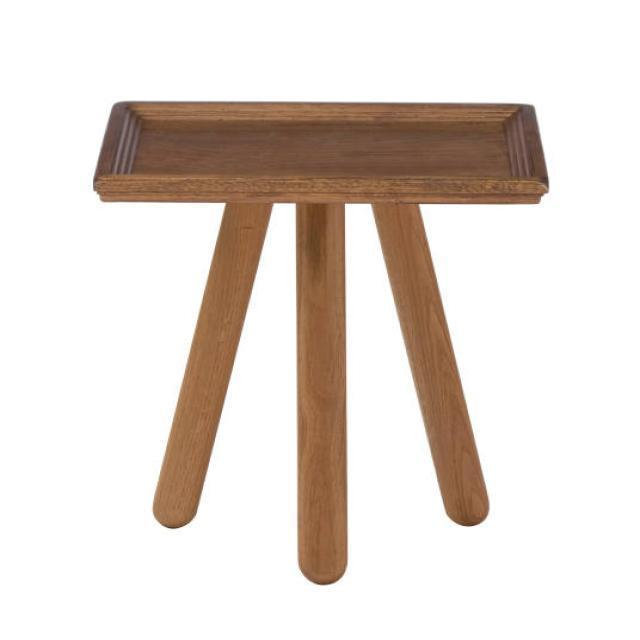table: (91, 100, 550, 584)
